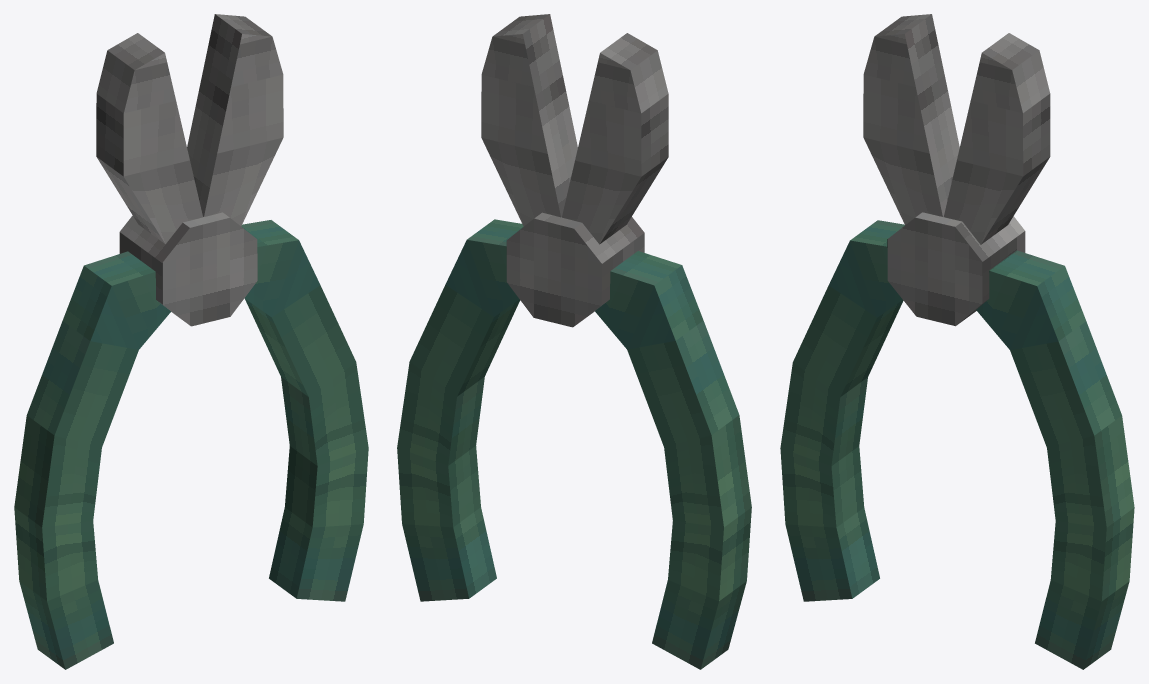
The model's file is Cutting_Pliers.glb.
The picture shows the model from 3 angles, left to right: view 1: azimuth 30°, elevation 25°; view 2: azimuth 150°, elevation 25°; view 3: azimuth 330°, elevation 25°; orthographic projection.
Parts seen in each view (by area): view 1: Plane.004; view 2: Plane.004; view 3: Plane.004.
Part boxes in pixels (box(x1,y1,x2,y2)): Plane.004: box(14, 14, 368, 669); Plane.004: box(397, 14, 751, 669); Plane.004: box(780, 14, 1134, 669).
Size of the model in its own units: 1.43 by 2.47 by 0.3222.
Materials: 1 (1 with a texture image).
